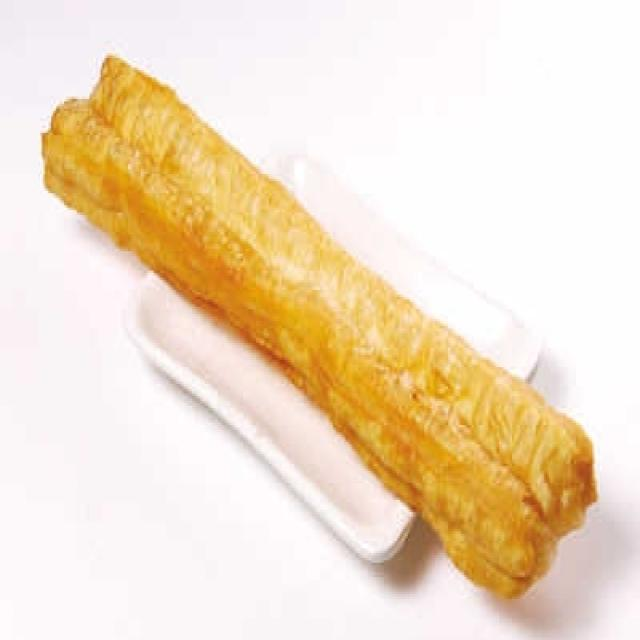炸货点心: (11, 19, 605, 599)
